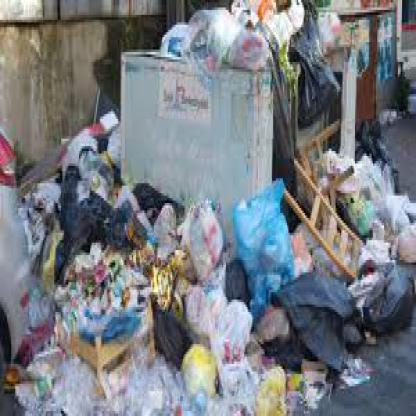Garbage: (116, 188, 292, 414), (23, 154, 122, 414), (292, 258, 361, 414), (166, 0, 320, 62), (274, 0, 338, 134), (356, 242, 414, 344), (323, 149, 415, 208), (66, 118, 121, 168)
